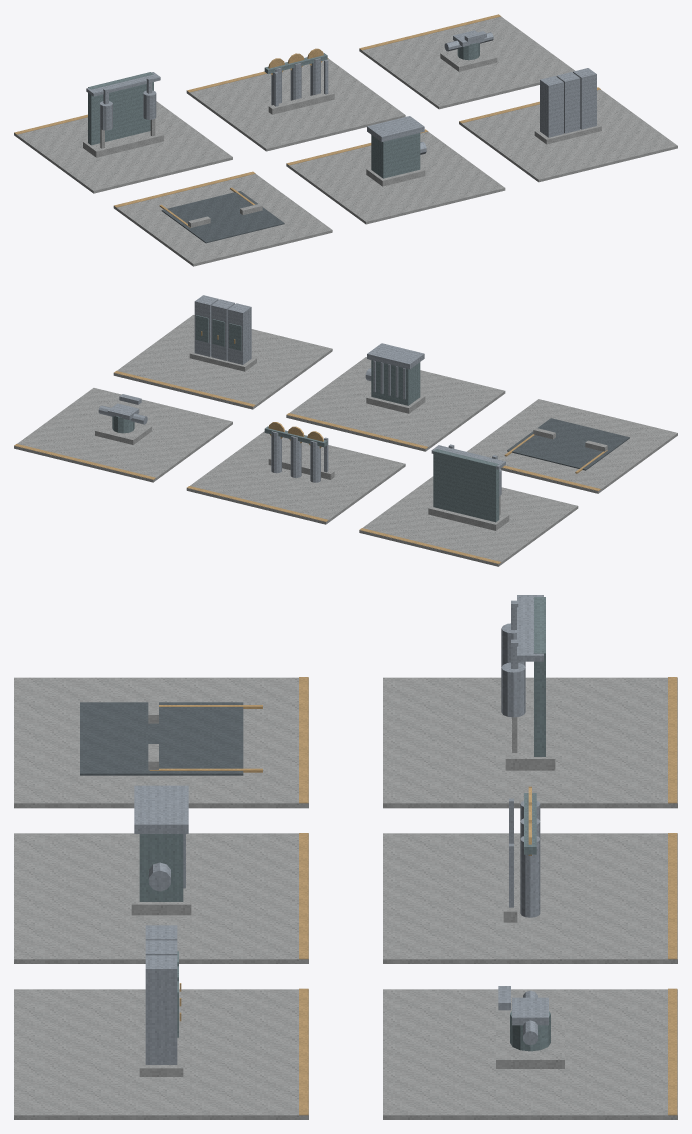
File: level_blockout_kit_wld_18_p03.glb
3 renders of one model, top to bottom at view 1: azimuth 30°, elevation 25°; view 2: azimuth 150°, elevation 25°; view 3: azimuth 270°, elevation 25°, orthographic. The views are drawn at different scales.
Visible parts, largest first — view 1: level_blockout_kit_wld_18_p03; view 2: level_blockout_kit_wld_18_p03; view 3: level_blockout_kit_wld_18_p03.
Part boxes in pixels (x1,y1,x2,y2): level_blockout_kit_wld_18_p03: [14, 14, 677, 266]; level_blockout_kit_wld_18_p03: [14, 295, 677, 566]; level_blockout_kit_wld_18_p03: [14, 595, 677, 1119].
Size of the model in its own units: 19.65 by 2.58 by 12.6.
5 materials, 5 textured.
